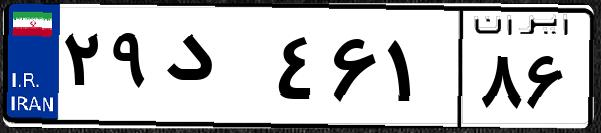1: (385, 28, 445, 110)
2: (57, 26, 110, 100)
4: (270, 28, 330, 110)
6: (330, 28, 385, 110), (525, 38, 570, 115)
8: (475, 38, 525, 113)
9: (110, 28, 158, 98)
د: (158, 20, 270, 120)
